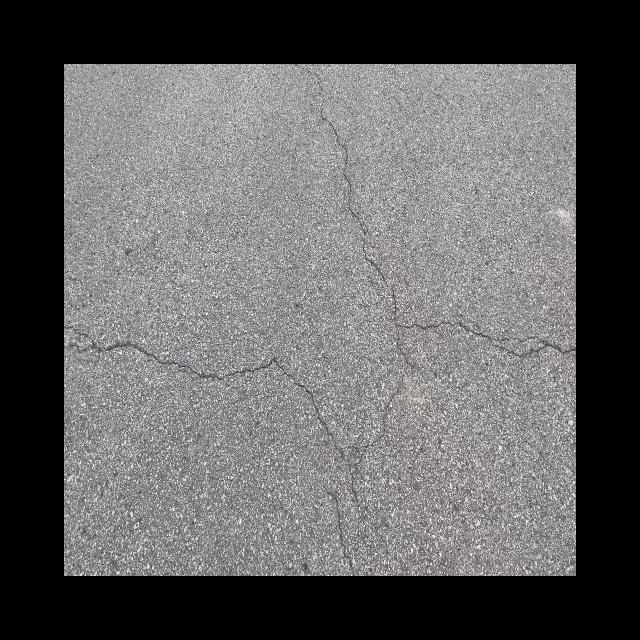retak_memanjang: (64, 307, 354, 511), (258, 64, 438, 346), (326, 275, 576, 426)
